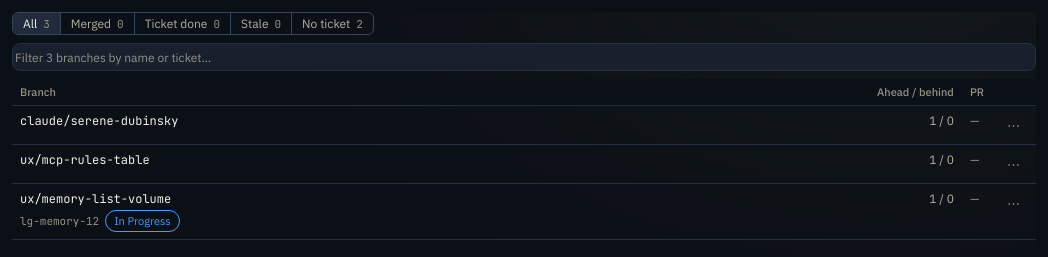
it: BranchTriageList filter › narrows the list by branch name
Type "ux/" into the search field named "Filter branches by name or linked ticket".
click(524, 57); type("ux/")  # box [12,43,1036,71]
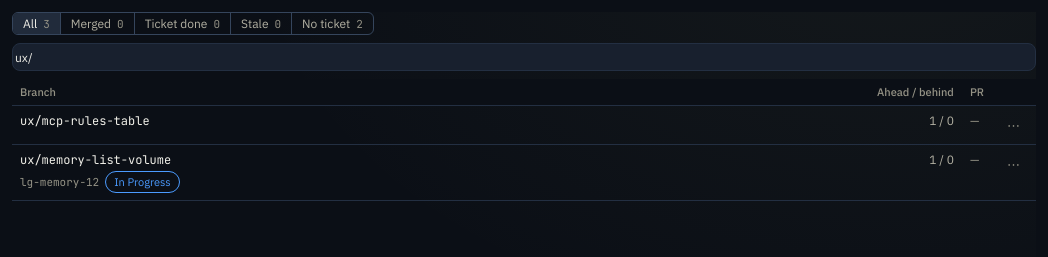
Now the button "claude/serene-dubinsky" is gone
